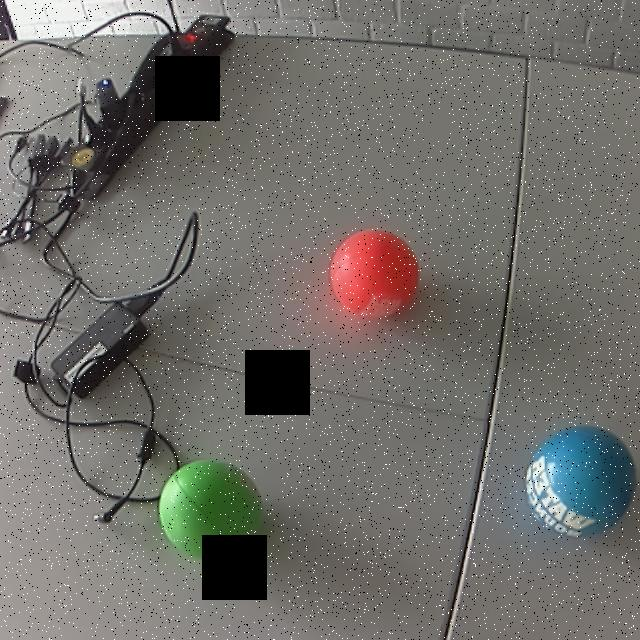ball: (157, 454, 266, 561), (327, 225, 422, 325)
